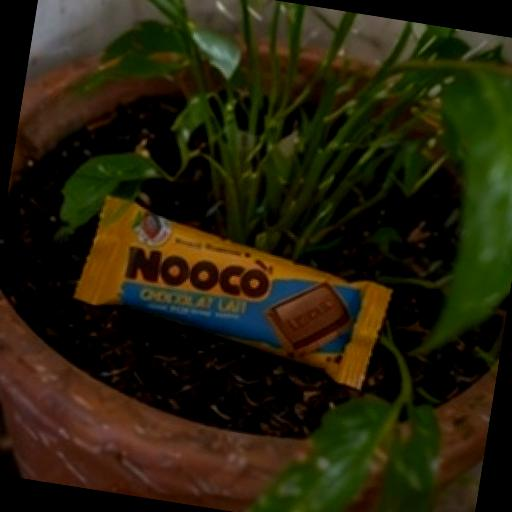biscuit-detection: (0, 135, 429, 408)
